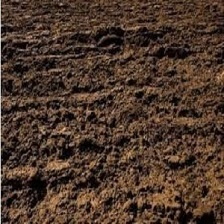loamy_soil: (10, 19, 212, 207)
